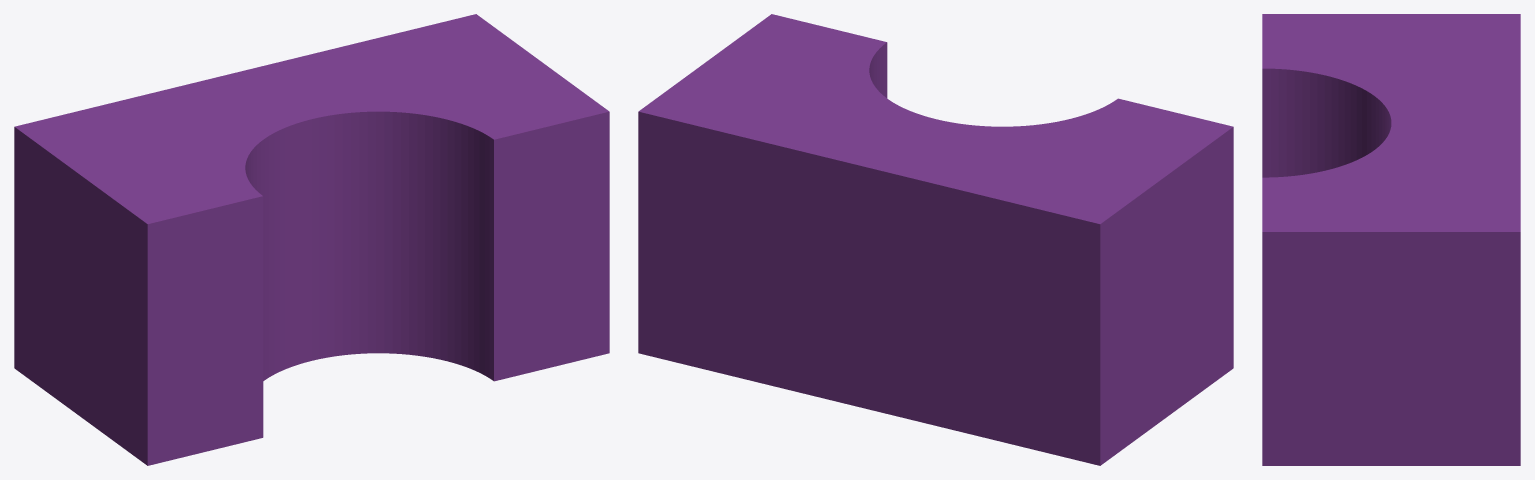
Rendered from SmallArchP.fbx.
3 views of the same model, side by side, from view 1: azimuth 30°, elevation 25°; view 2: azimuth 150°, elevation 25°; view 3: azimuth 270°, elevation 25° (orthographic). The views are drawn at different scales.
Visible parts, largest first — view 1: SmallArchP; view 2: SmallArchP; view 3: SmallArchP.
Part boxes in pixels (x1,y1,x2,y2): SmallArchP: (14, 14, 609, 465); SmallArchP: (638, 14, 1233, 465); SmallArchP: (1262, 14, 1520, 465).
Bounding box in the file's own units: 1200 × 600 × 600.
